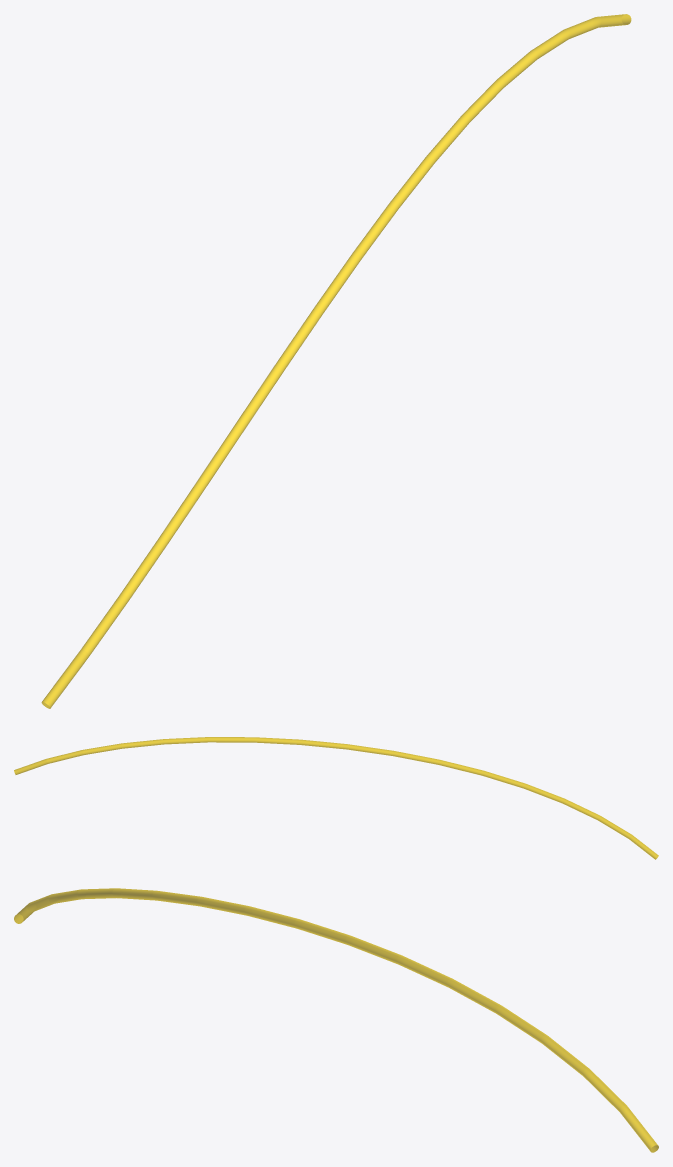
File: Event_17758602_track_8.fbx
3 views of the same model, one above another, from view 1: azimuth 30°, elevation 25°; view 2: azimuth 150°, elevation 25°; view 3: azimuth 270°, elevation 25° (orthographic). The views are drawn at different scales.
Parts seen in each view (by area): view 1: Model; view 2: Model; view 3: Model.
Part boxes in pixels (bbox=[...]): Model: bbox=[41, 14, 631, 708]; Model: bbox=[14, 737, 658, 859]; Model: bbox=[14, 888, 658, 1152].
Size of the model in its own units: 3.96 by 1.05 by 2.61.
